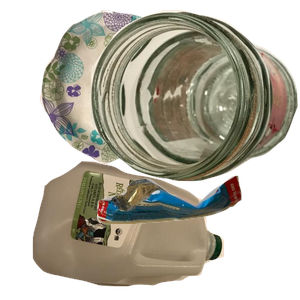glass: (90, 10, 300, 184)
paper: (37, 10, 219, 167)
plastic: (30, 159, 247, 300)
trash: (94, 173, 300, 300)
